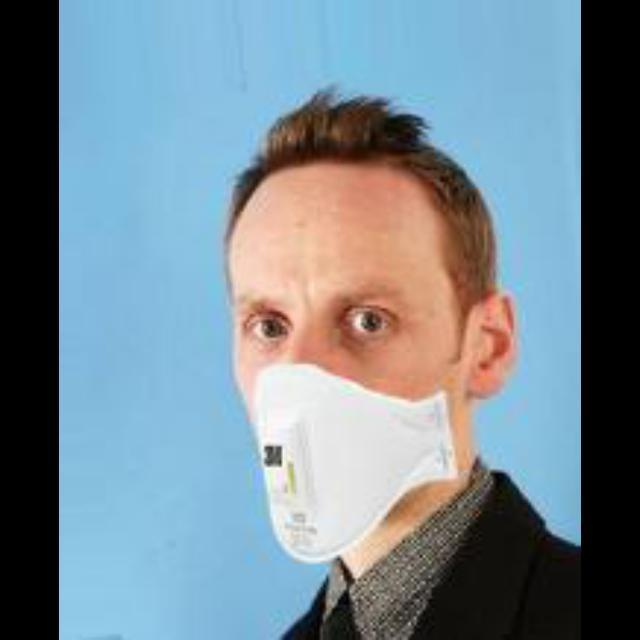suspicion: (184, 129, 488, 545)
